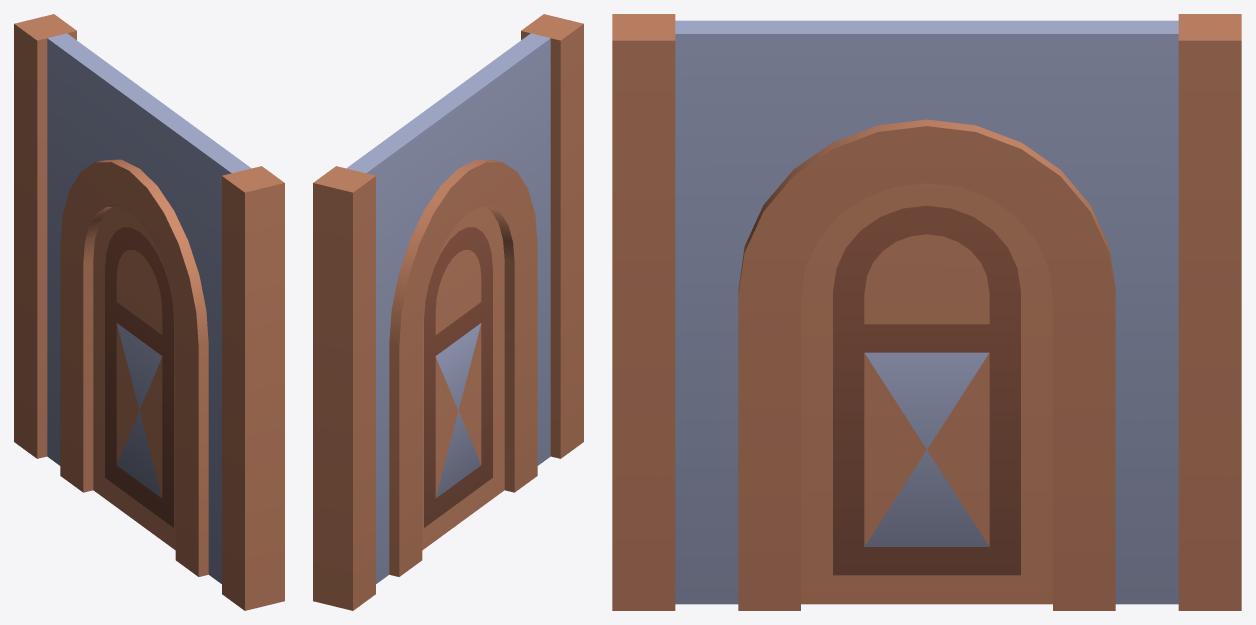
Rendered from wall-door.glb.
3 views of the same model, side by side, from view 1: azimuth 30°, elevation 25°; view 2: azimuth 150°, elevation 25°; view 3: azimuth 270°, elevation 25° (orthographic). The views are drawn at different scales.
Parts seen in each view (by area): view 1: wall-door, door; view 2: wall-door, door; view 3: wall-door, door.
Boxes of the visible parts, box(x1,y1,x2,y2) form: wall-door: box(14, 14, 284, 610); door: box(93, 207, 175, 550); wall-door: box(313, 14, 583, 610); door: box(422, 207, 504, 550); wall-door: box(612, 14, 1241, 610); door: box(801, 183, 1052, 604).
Size of the model in its own units: 0.1 by 1 by 1.
Materials: 1 (1 with a texture image).
